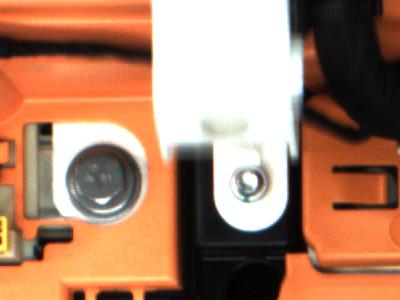nut_b: (58, 140, 146, 219)
